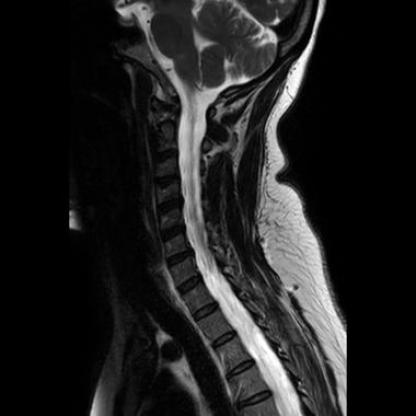Disc Bulgerotation: (151, 172, 181, 191), (158, 224, 190, 241), (154, 198, 186, 215), (164, 250, 195, 267)
